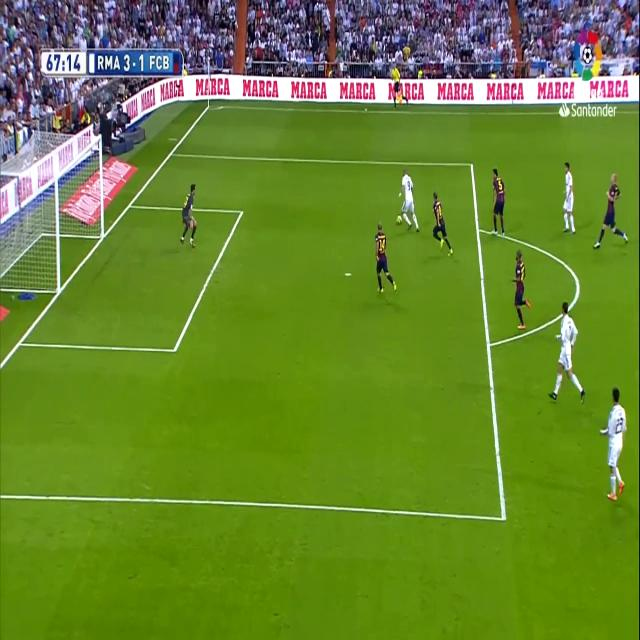bigarea_bottom_inner: (168, 334, 180, 364)
bigarea_top_outter: (168, 146, 175, 159)
corner: (205, 102, 213, 112)
smallarea_bottom_outter: (15, 331, 24, 354)
smallarea_top_outter: (126, 197, 133, 213)
